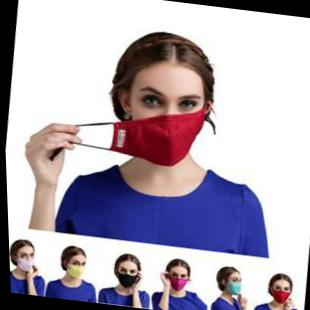OK: (10, 250, 35, 273), (62, 257, 86, 280), (114, 265, 138, 288), (221, 274, 243, 295), (167, 270, 187, 292), (269, 282, 289, 304)
WRONG: (104, 75, 209, 169)
